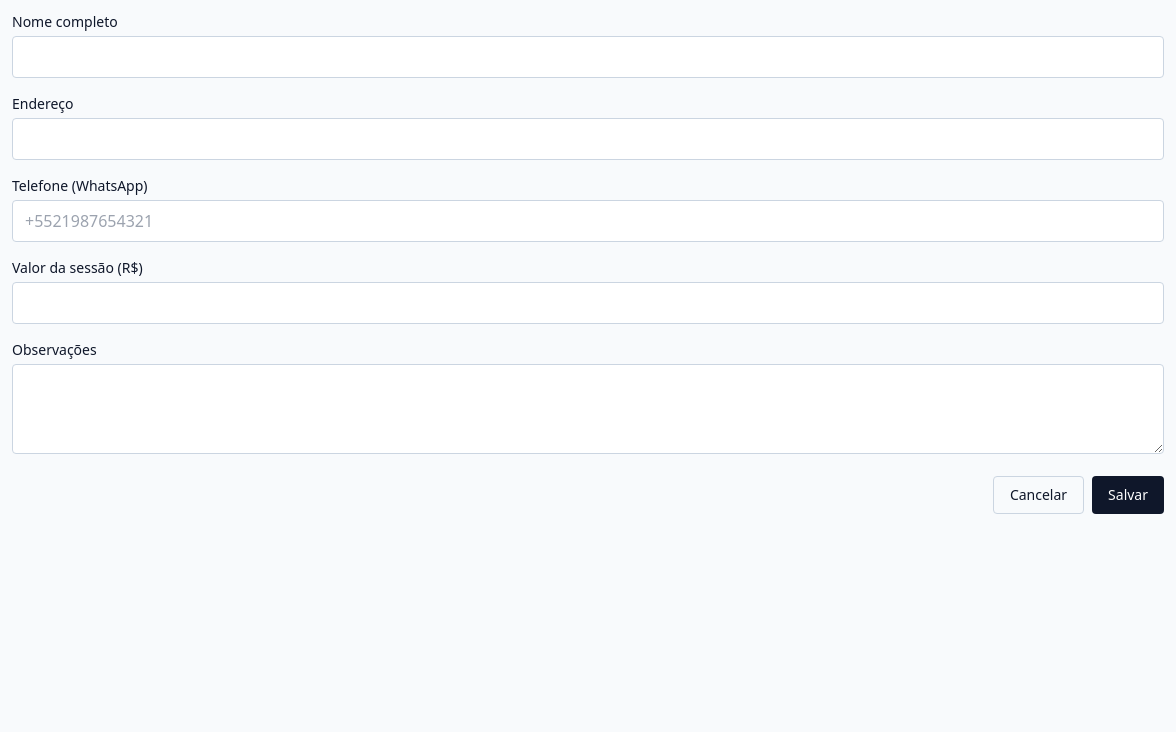
PatientForm › shows validation errors when submitting empty fields
This screenshot has width=1176, height=732.
Click the button "Salvar" at (1128, 495), box x1=1092 y1=476 x2=1164 y2=514
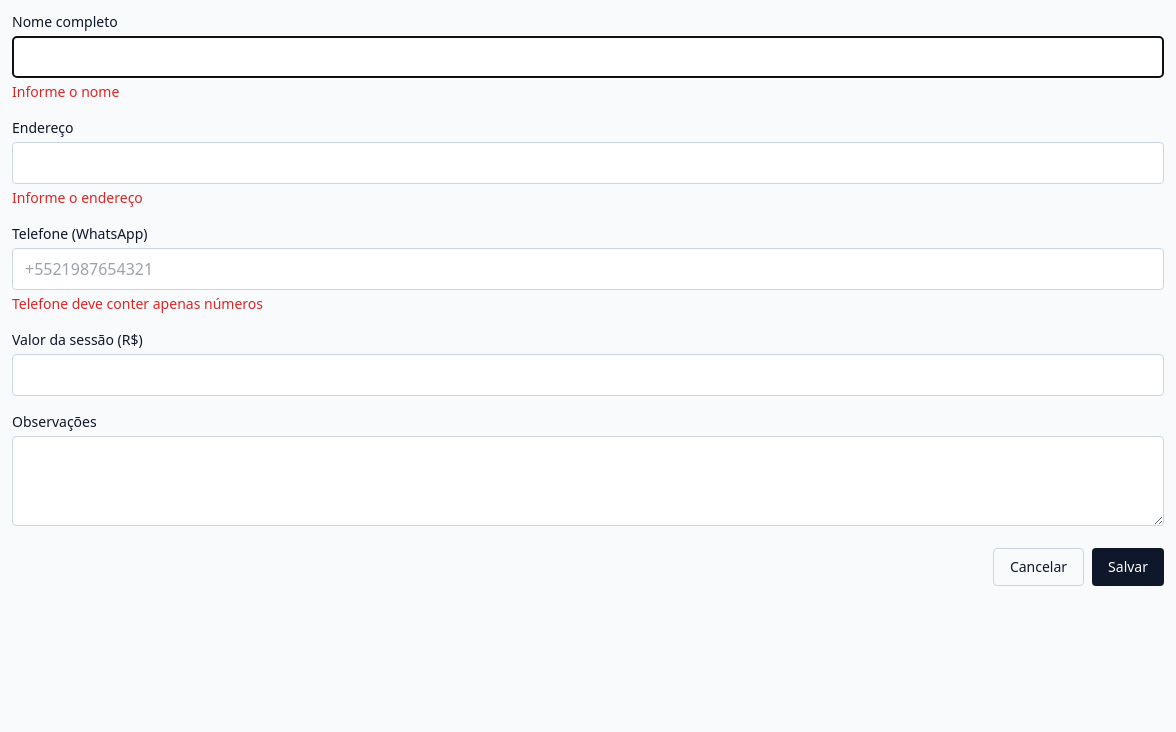
Check: the text "Informe o nome" is shown, box x1=12 y1=82 x2=119 y2=101
Check: the text "Informe o endereço" is shown, box x1=12 y1=188 x2=143 y2=207
Check: the text "Telefone deve conter apenas números" is shown, box x1=12 y1=294 x2=263 y2=313
